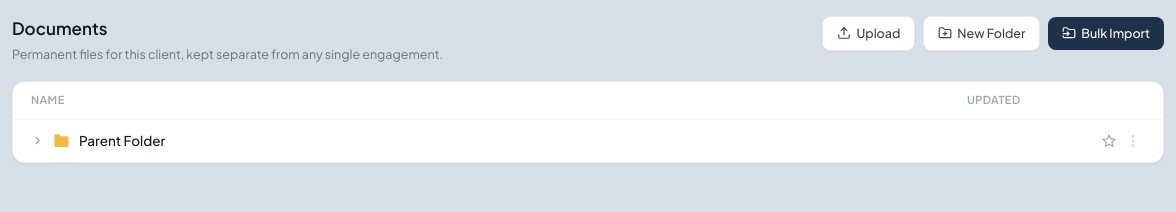
Test: FolderBrowser breadcrumb navigation › shows breadcrumb with Parent Folder as the current non-clickable segment after navigating in
The width and height of the screenshot is (1176, 212).
Double-click the text "Parent Folder" at (122, 141), box [79,131,165,151]
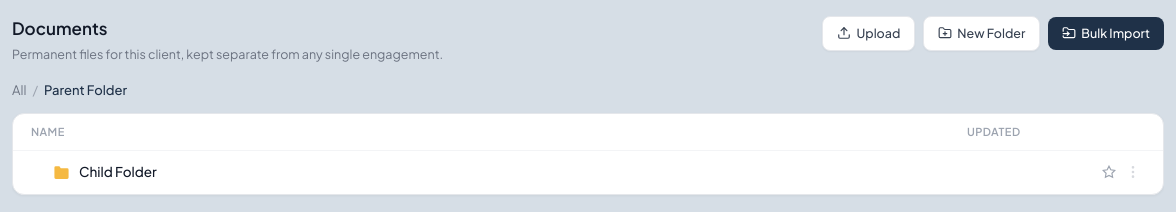
Result: the button "All" is shown at [12,81,26,101]
